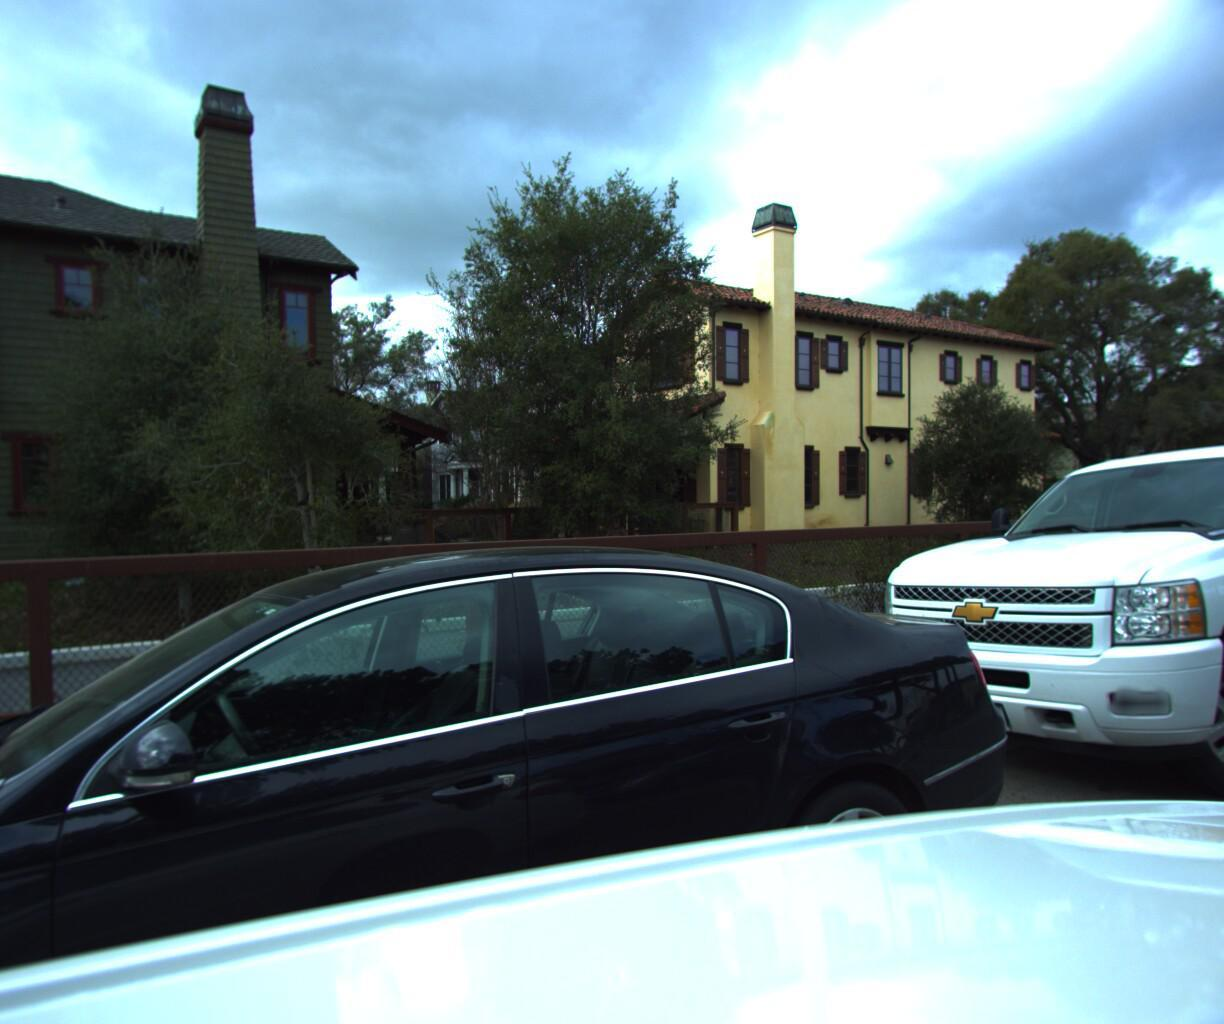car: (0, 515, 1085, 1024), (891, 410, 1224, 840)
